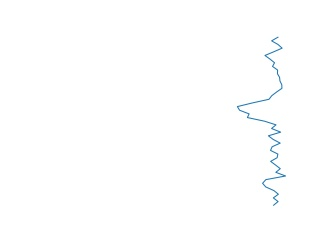interdistributaryEstuary: (233, 36, 290, 207)
